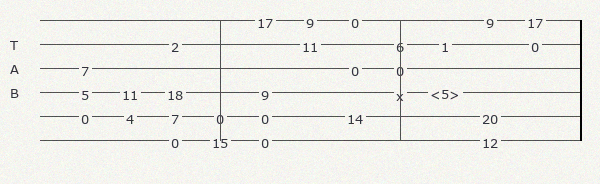0: (81, 110, 93, 123), (171, 134, 183, 147), (216, 110, 228, 123), (261, 134, 273, 147), (261, 110, 273, 123), (351, 14, 363, 27), (351, 62, 363, 75), (396, 62, 408, 75), (531, 38, 543, 51)
1: (441, 38, 453, 51)
11: (122, 86, 142, 99), (302, 38, 322, 51)
12: (482, 134, 502, 147)
14: (347, 110, 367, 123)
15: (212, 134, 232, 147)
17: (257, 14, 277, 27), (527, 14, 547, 27)
18: (167, 86, 187, 99)
2: (171, 38, 183, 51)
20: (482, 110, 502, 123)
4: (126, 110, 138, 123)
5: (81, 86, 93, 99)
6: (396, 38, 408, 51)
7: (81, 62, 93, 75), (171, 110, 183, 123)
9: (261, 86, 273, 99), (306, 14, 318, 27), (486, 14, 498, 27)
harmonic: (430, 85, 464, 99)
x: (396, 87, 408, 98)
